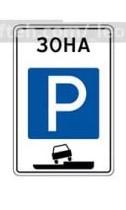road_sign: (13, 22, 115, 177)
